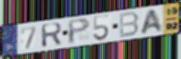5: (92, 13, 113, 42)
7: (20, 26, 37, 50)
A: (140, 8, 164, 36)
B: (119, 11, 140, 39)
P: (66, 17, 91, 46)
R: (40, 22, 63, 49)
